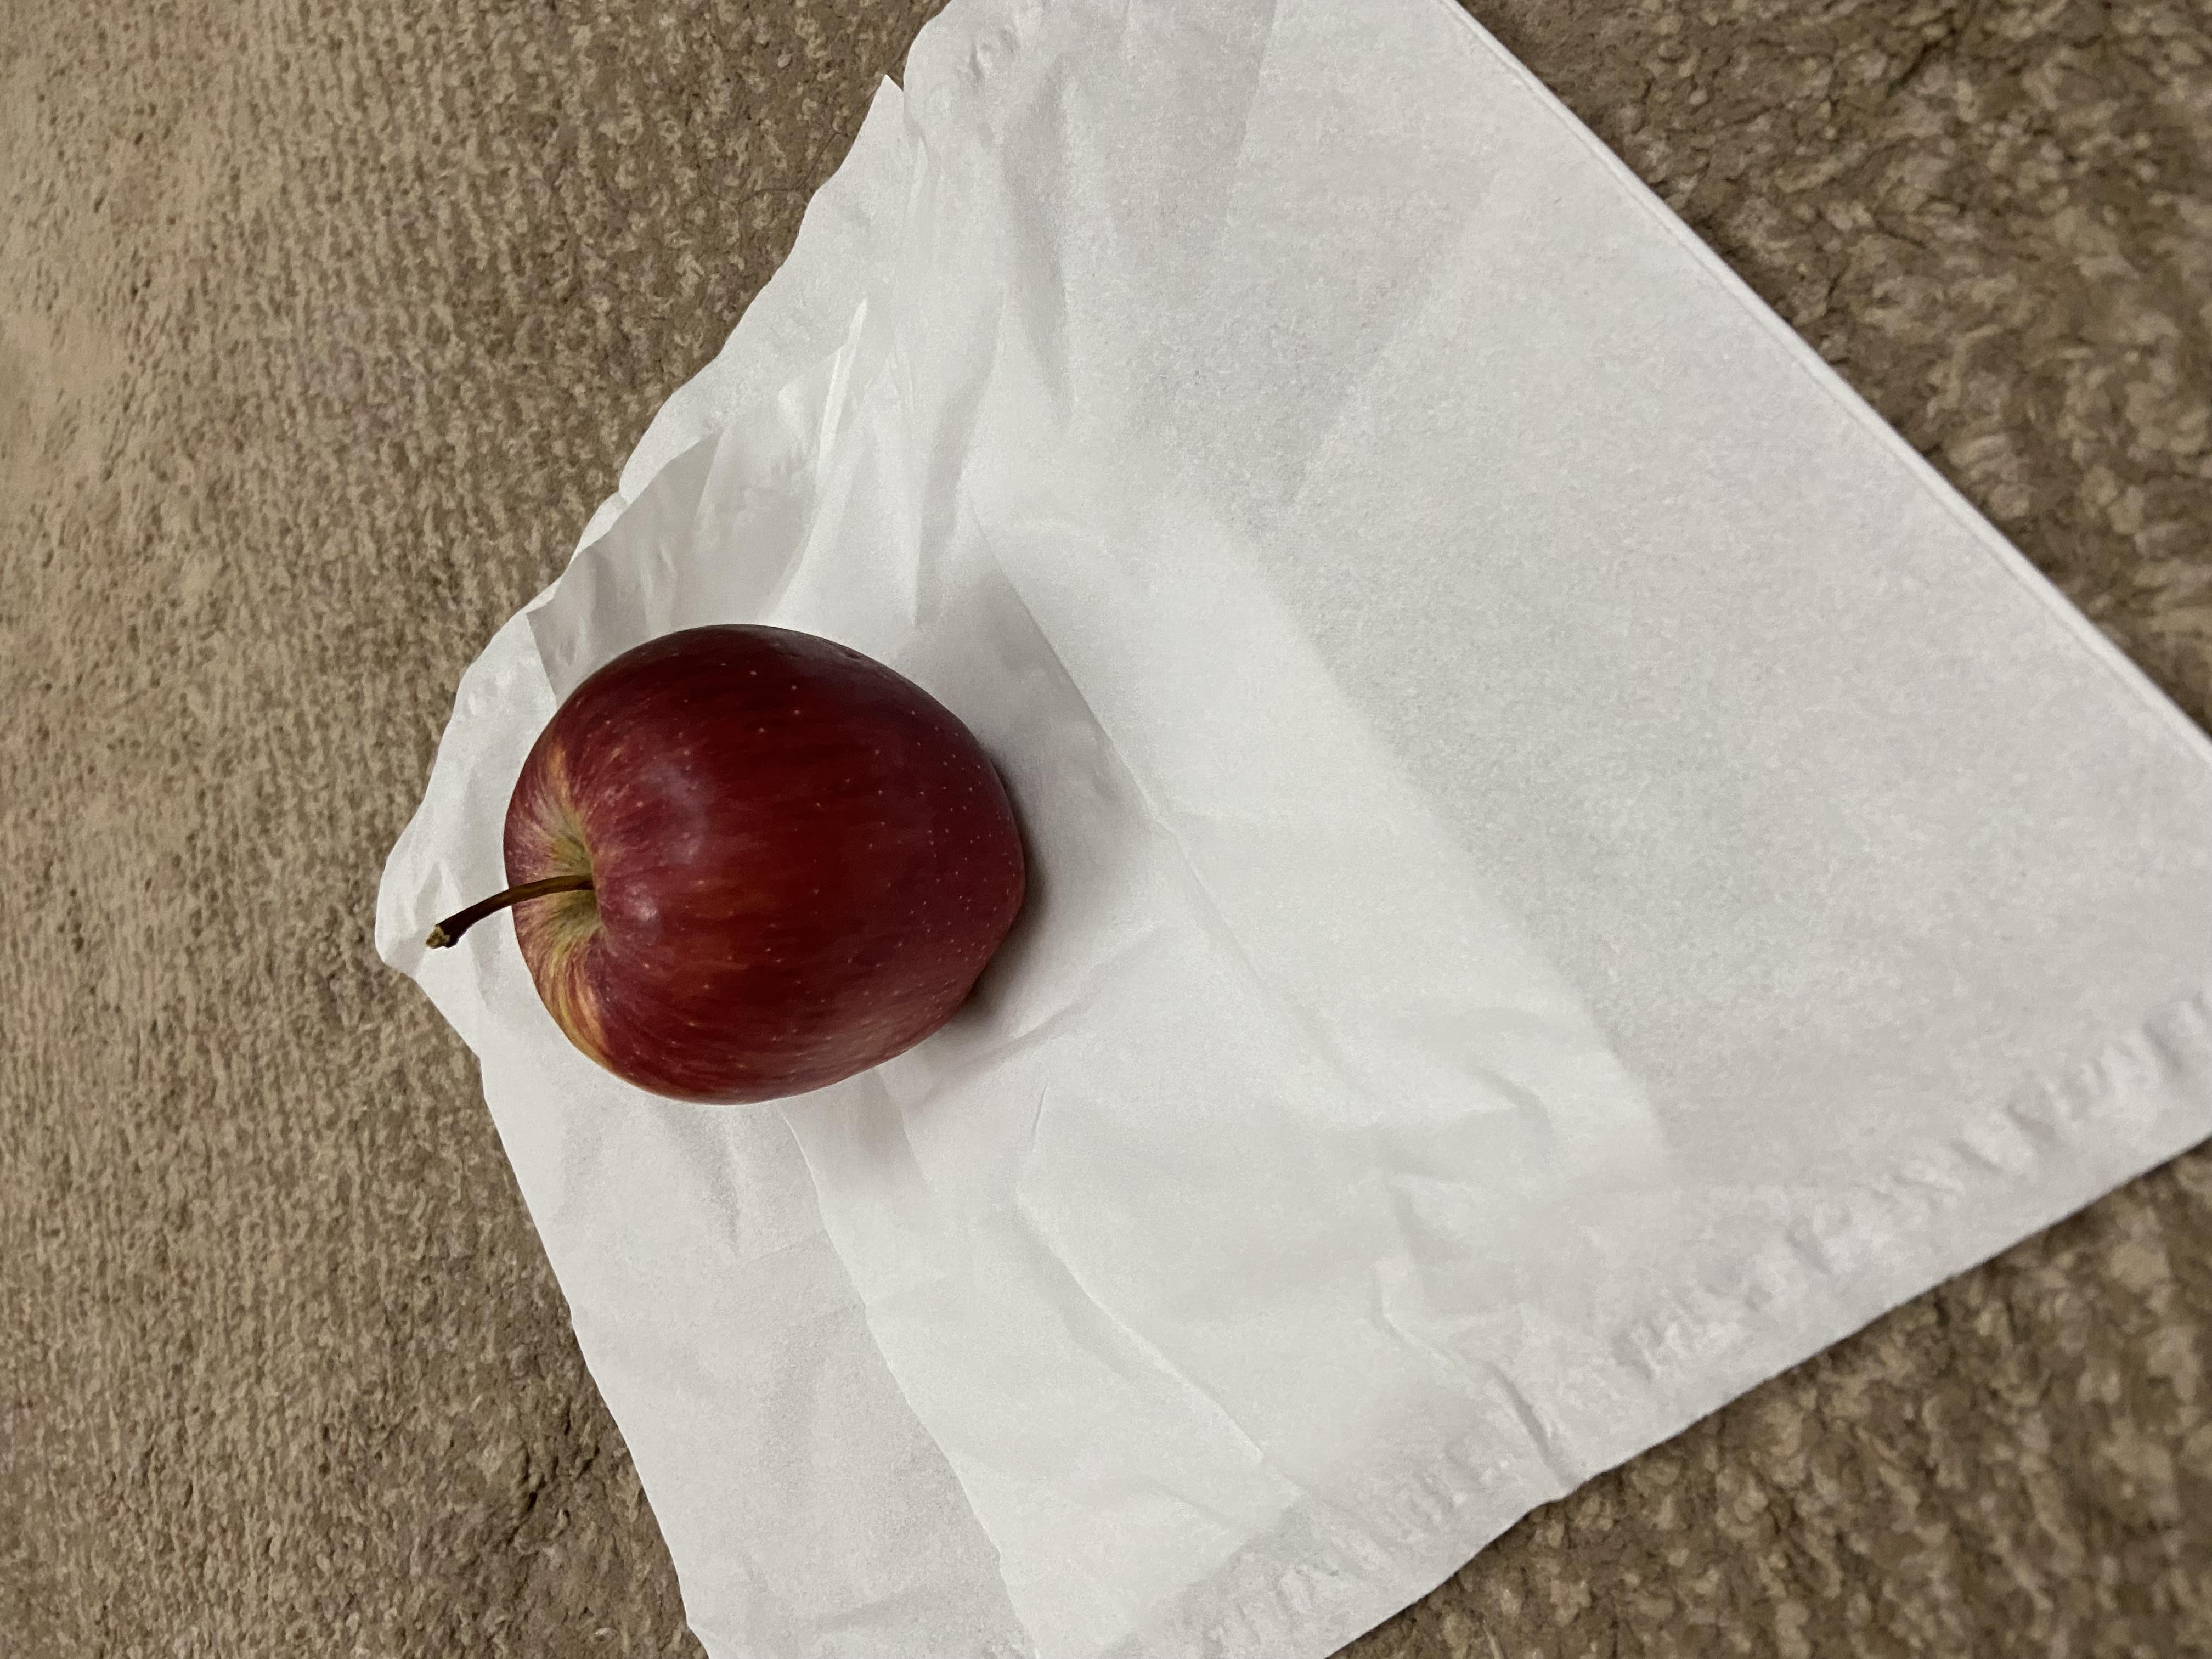Apple: (742, 308, 1399, 777)
